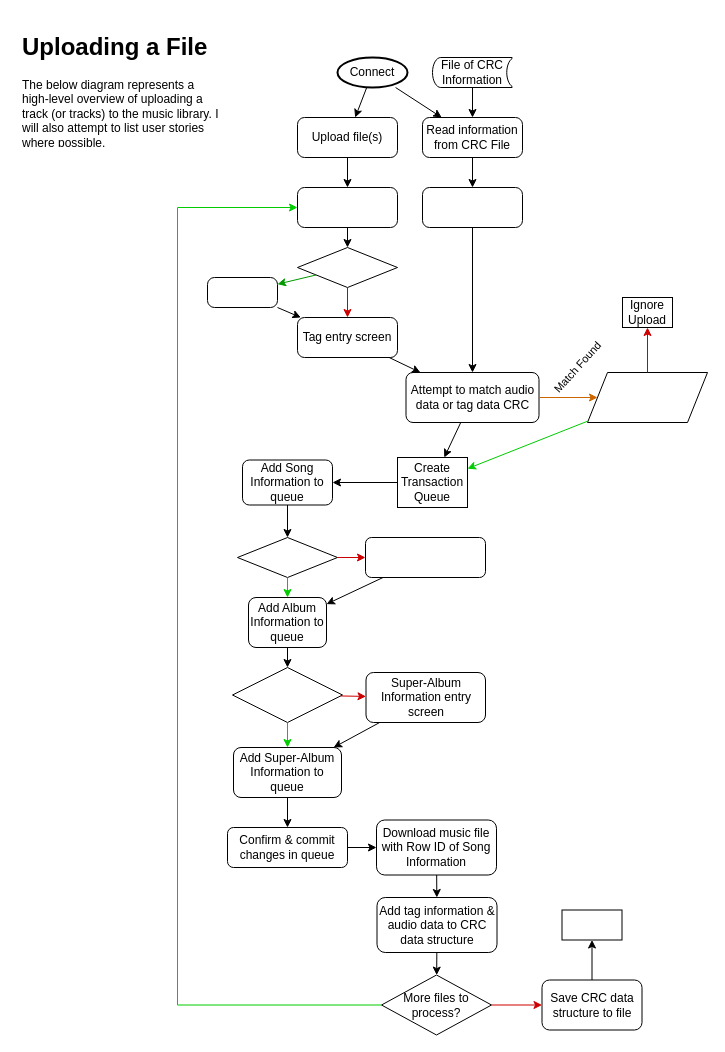
Image size: 725x1052. Some labels were removed from this diagram. The shapes that lost their labels are listed below. From the top down, each one's centre as x and y in pixels, then its label:
At point (347, 207): "Parse metadata/tags".
At point (472, 207): "Generate CRC data structure".
At point (347, 267): "Tags present?".
At point (242, 292): "Prefill entry form".
At point (647, 397): "Alert: File may already exist. Continue?".
At point (287, 557): "Album exists?".
At point (425, 557): "Album Information entry screen".
At point (287, 694): "Super-Album exists?".
At point (591, 924): "Process Complete".
